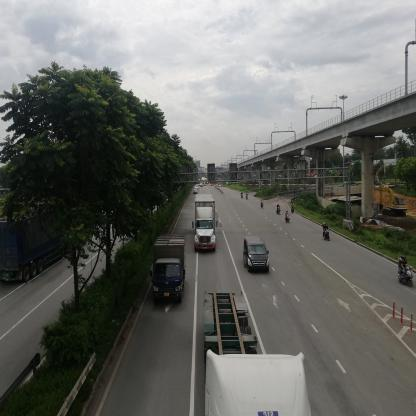car: (245, 237, 270, 270)
container: (205, 294, 300, 416), (6, 198, 64, 284), (154, 238, 186, 312), (197, 193, 217, 253)
motorbike: (399, 257, 414, 287), (323, 224, 331, 242), (286, 212, 291, 224), (277, 205, 282, 215), (292, 204, 296, 215), (261, 200, 265, 208), (241, 192, 244, 202), (247, 193, 250, 199)
